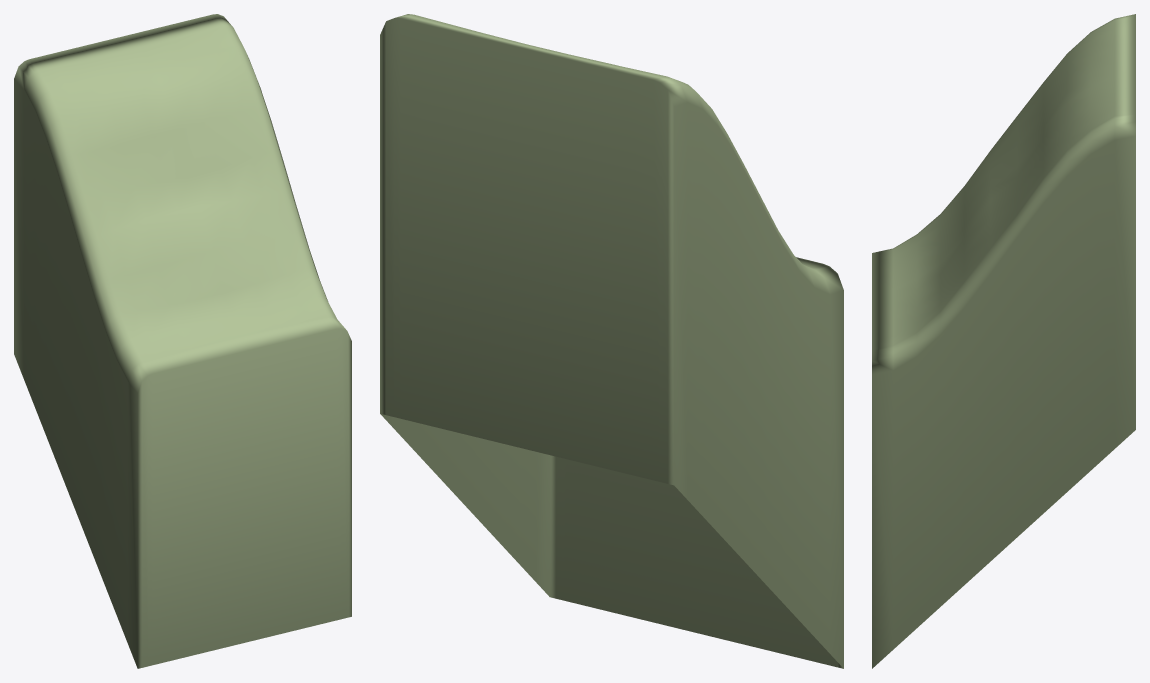
Rendered from ground-ramp-lr-02.glb.
The picture shows the model from 3 angles, left to right: view 1: azimuth 30°, elevation 25°; view 2: azimuth 150°, elevation 25°; view 3: azimuth 270°, elevation 25°; orthographic projection. The views are drawn at different scales.
Parts seen in each view (by area): view 1: ground-ramp-lr-02; view 2: ground-ramp-lr-02; view 3: ground-ramp-lr-02.
Boxes of the visible parts, <box> form: ground-ramp-lr-02: <box>14,14,351,668</box>; ground-ramp-lr-02: <box>380,14,843,668</box>; ground-ramp-lr-02: <box>872,14,1135,668</box>.
Bounding box in the file's own units: 1 × 2.3 × 1.
